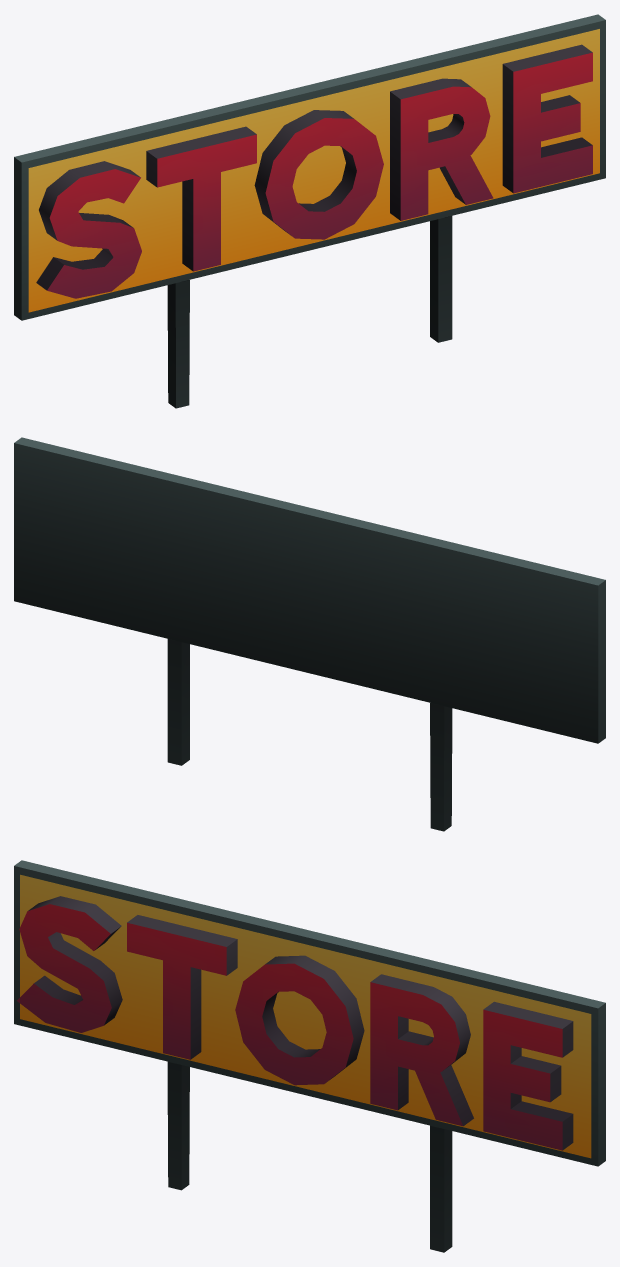
The model's file is Title_5A.fbx.
3 renders of one model, top to bottom at view 1: azimuth 30°, elevation 25°; view 2: azimuth 150°, elevation 25°; view 3: azimuth 330°, elevation 25°, orthographic.
Visible parts, largest first — view 1: Title_Addon_5A, Title_5A; view 2: Title_Addon_5A; view 3: Title_Addon_5A, Title_5A.
Part boxes in pixels (box(x1,y1,x2,y2)): Title_Addon_5A: box(14, 14, 605, 408); Title_5A: box(36, 44, 592, 298); Title_Addon_5A: box(14, 437, 605, 831); Title_Addon_5A: box(14, 860, 605, 1252); Title_5A: box(17, 896, 573, 1150).
Bounding box in the file's own units: 4.45 × 2.07 × 0.2542.
